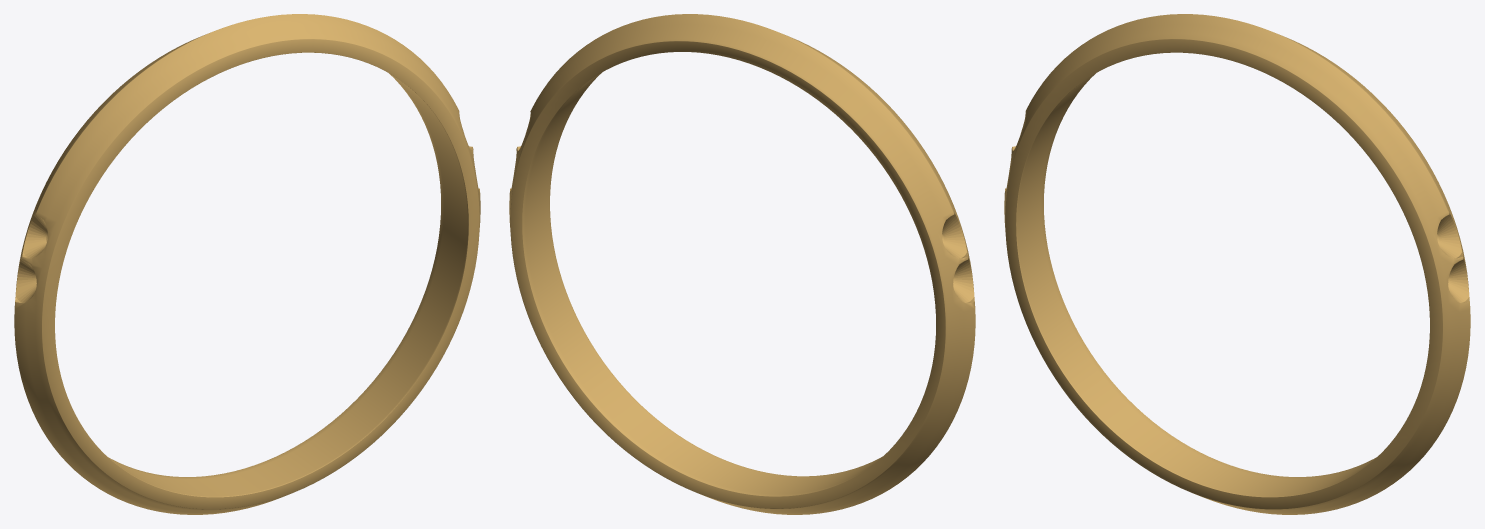
File: knife-edge-flush-accents-multi.glb
3 renders of one model, left to right at view 1: azimuth 30°, elevation 25°; view 2: azimuth 150°, elevation 25°; view 3: azimuth 330°, elevation 25°, orthographic.
Visible parts, largest first — view 1: Band; view 2: Band; view 3: Band.
Boxes of the visible parts, box(x1,y1,x2,y2) form: Band: box(14, 14, 480, 514); Band: box(509, 14, 975, 514); Band: box(1004, 14, 1470, 514).
Size of the model in its own units: 19.6 by 19.6 by 2.1.
